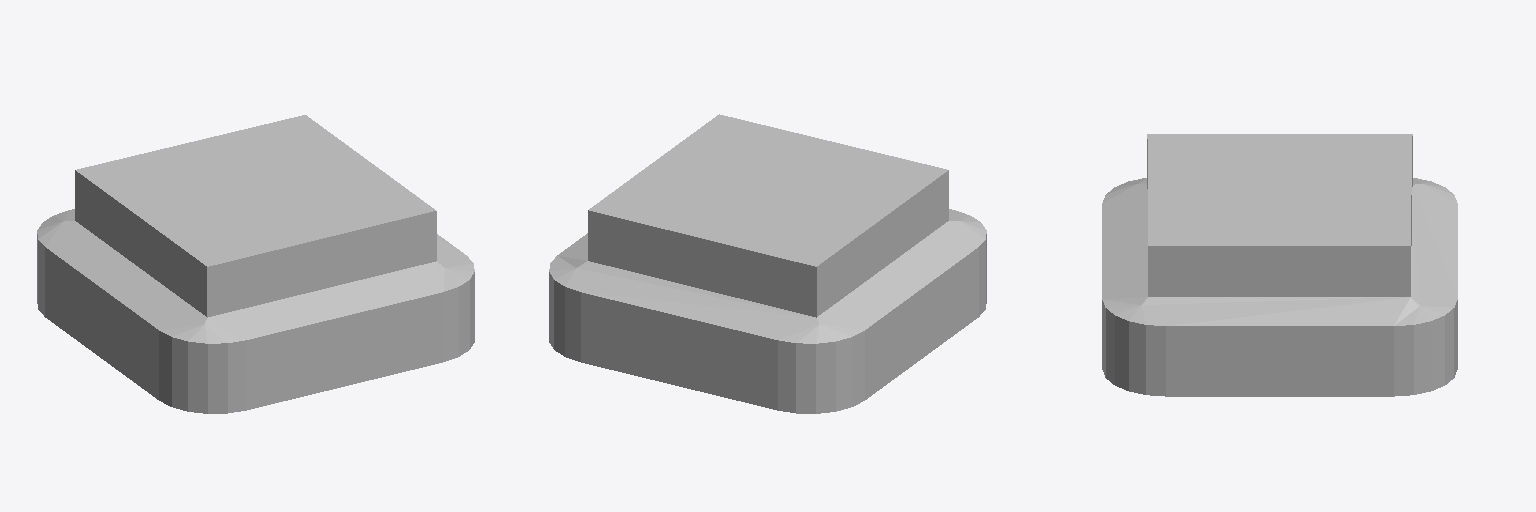
The model's file is square.obj.
The picture shows the model from 3 angles: view 1: azimuth 30°, elevation 25°; view 2: azimuth 150°, elevation 25°; view 3: azimuth 270°, elevation 25°; orthographic projection.
Parts seen in each view (by area): view 1: 立方体; view 2: 立方体; view 3: 立方体.
Part boxes in pixels (x1,y1,x2,y2): 立方体: (37, 115, 474, 413); 立方体: (549, 114, 986, 413); 立方体: (1102, 134, 1457, 396).
Size of the model in its own units: 0.4 by 0.1629 by 0.4.